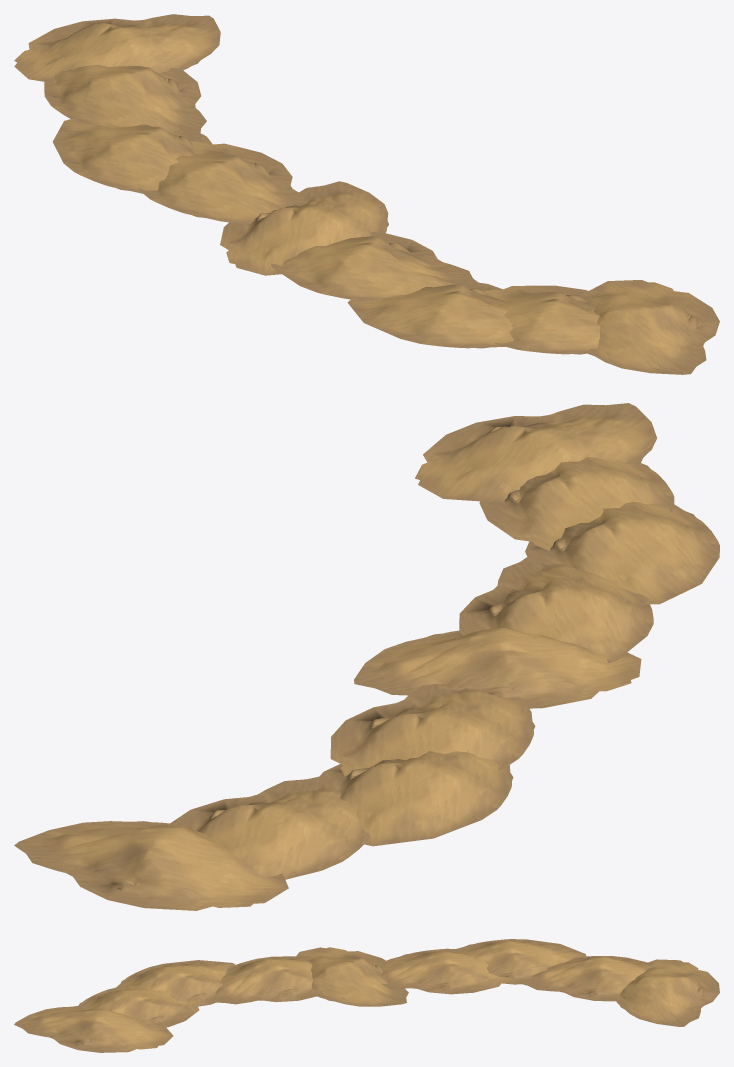
File: Area_05_2.fbx
3 renders of one model, top to bottom at view 1: azimuth 30°, elevation 25°; view 2: azimuth 150°, elevation 25°; view 3: azimuth 270°, elevation 25°, orthographic. The views are drawn at different scales.
Parts seen in each view (by area): view 1: Area_05_2; view 2: Area_05_2; view 3: Area_05_2.
Boxes of the visible parts, x1,y1,x2,y2 form: Area_05_2: [14, 14, 719, 374]; Area_05_2: [14, 403, 719, 910]; Area_05_2: [14, 939, 719, 1052].
Size of the model in its own units: 11884 by 743 by 31135.
1 material, 1 textured.
